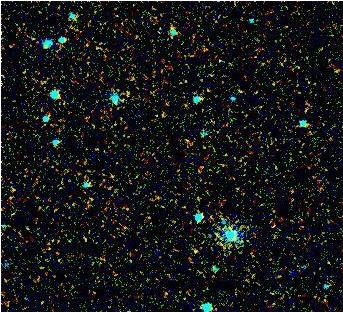star: (178, 235, 208, 265)
